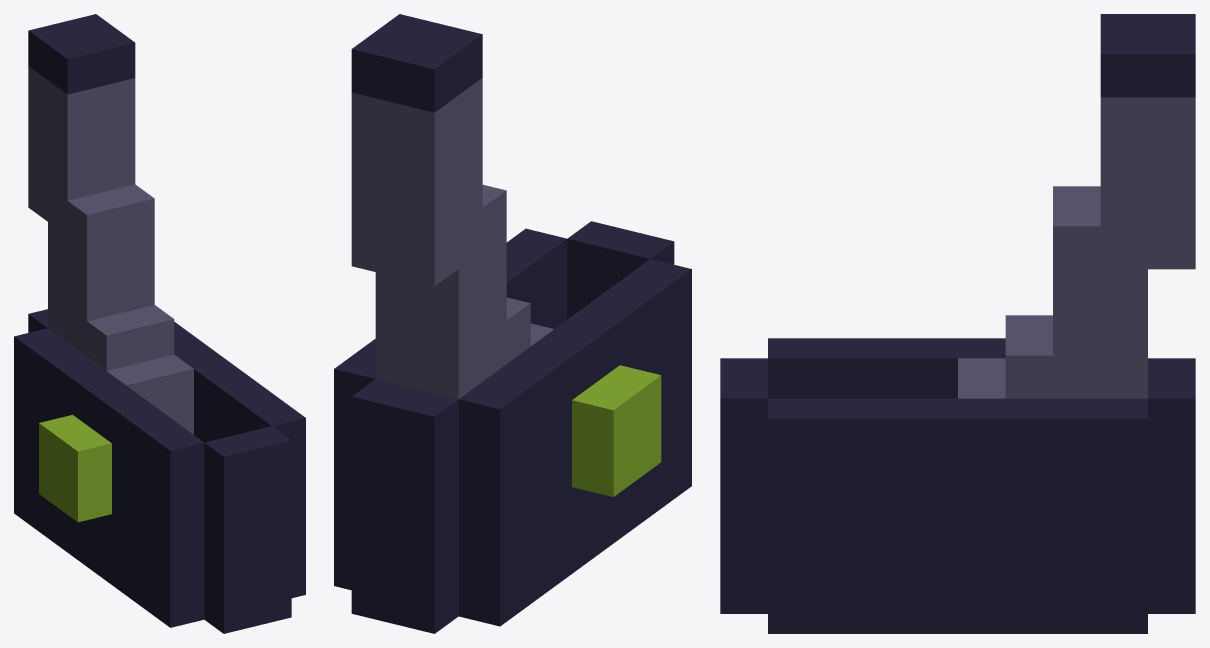
Rendered from levierVert.obj.
3 renders of one model, left to right at view 1: azimuth 30°, elevation 25°; view 2: azimuth 150°, elevation 25°; view 3: azimuth 270°, elevation 25°, orthographic. The views are drawn at different scales.
Bounding box in the file's own units: 0.5 × 1.3 × 1.
Materials: 1 (1 with a texture image).
